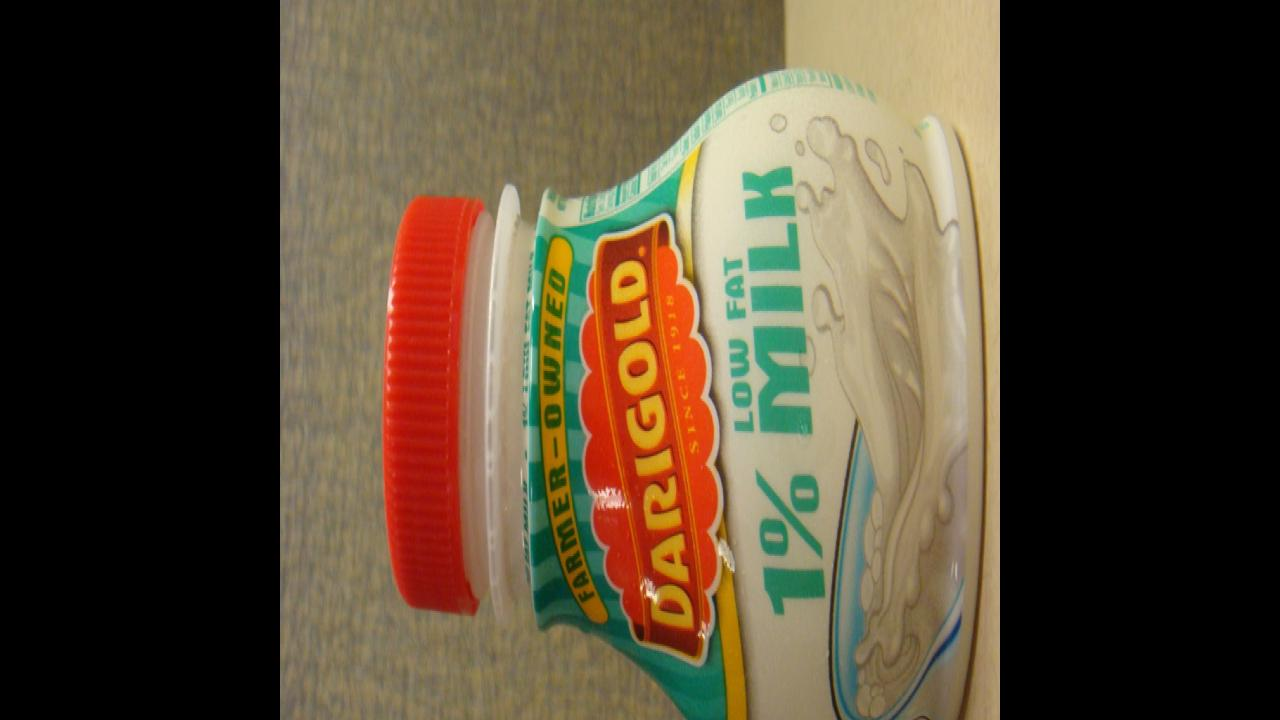bottle_cap: (384, 191, 482, 619)
